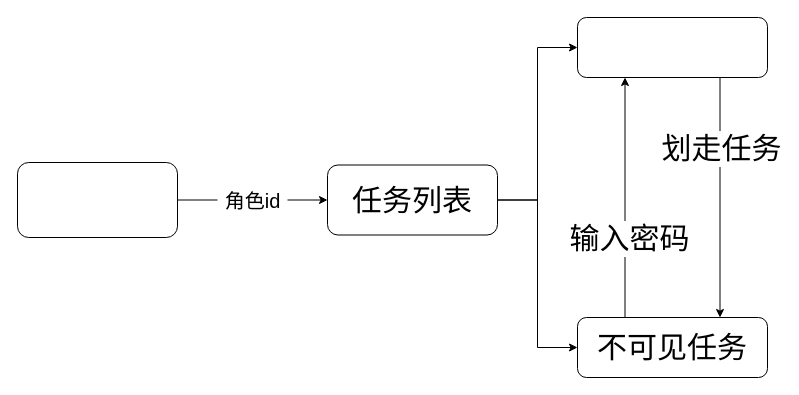
Image size: 799x395. Some labels were removed from this diagram. The centre of each missing label's shape, as x and y in pixels:
"可见任务" belongs at pixel 672 47.
"角色选择" belongs at pixel 97 200.
